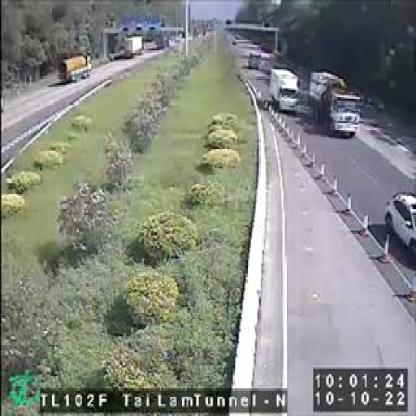Car: (387, 188, 416, 254)
Truck: (309, 66, 359, 138), (268, 64, 299, 110), (58, 52, 92, 83), (248, 48, 278, 76), (124, 34, 145, 58)
